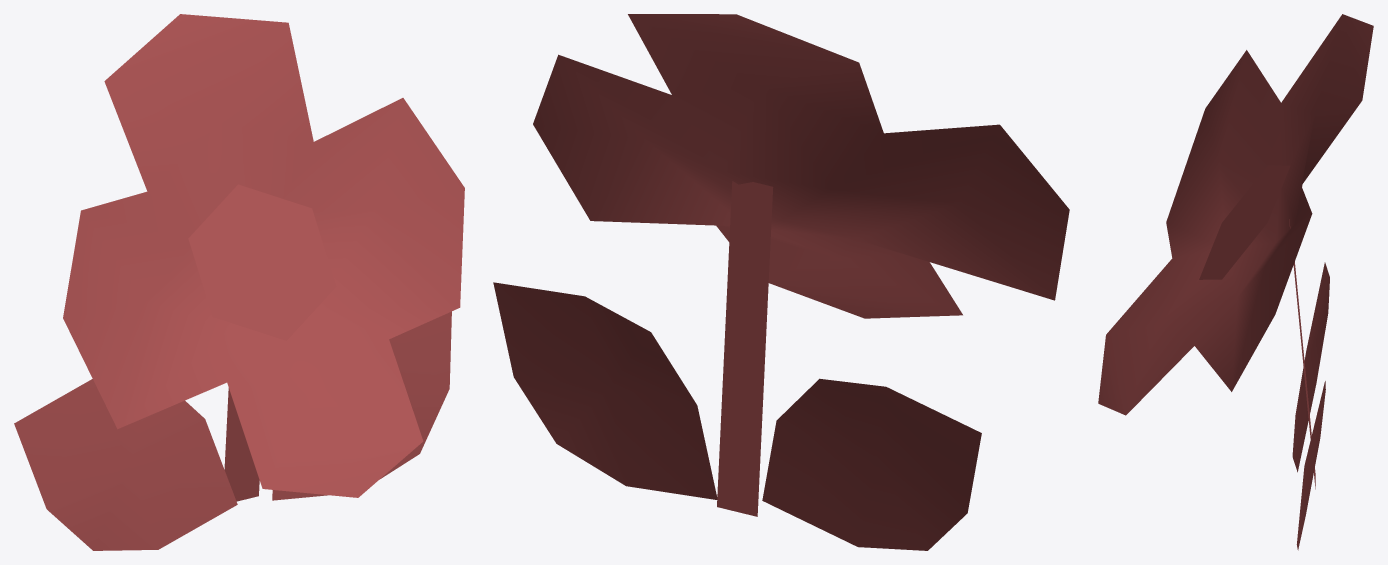
File: SM_Flower_Vaihiria.fbx
The picture shows the model from 3 angles, left to right: view 1: azimuth 30°, elevation 25°; view 2: azimuth 150°, elevation 25°; view 3: azimuth 270°, elevation 25°; orthographic projection. The views are drawn at different scales.
Visible parts, largest first — view 1: Flower; view 2: Flower; view 3: Flower.
Boxes of the visible parts, <box> form: Flower: <box>14,14,464,550</box>; Flower: <box>493,14,1069,550</box>; Flower: <box>1098,14,1373,550</box>.
Size of the model in its own units: 20.9 by 21.65 by 11.74.
